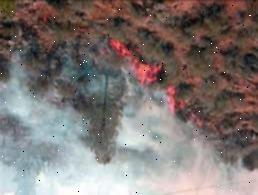fire: (103, 38, 190, 122)
